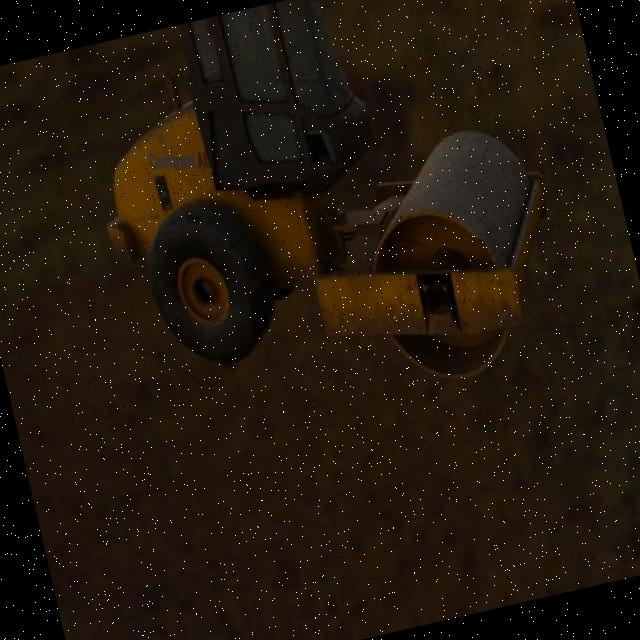Roller: (64, 0, 582, 449)
